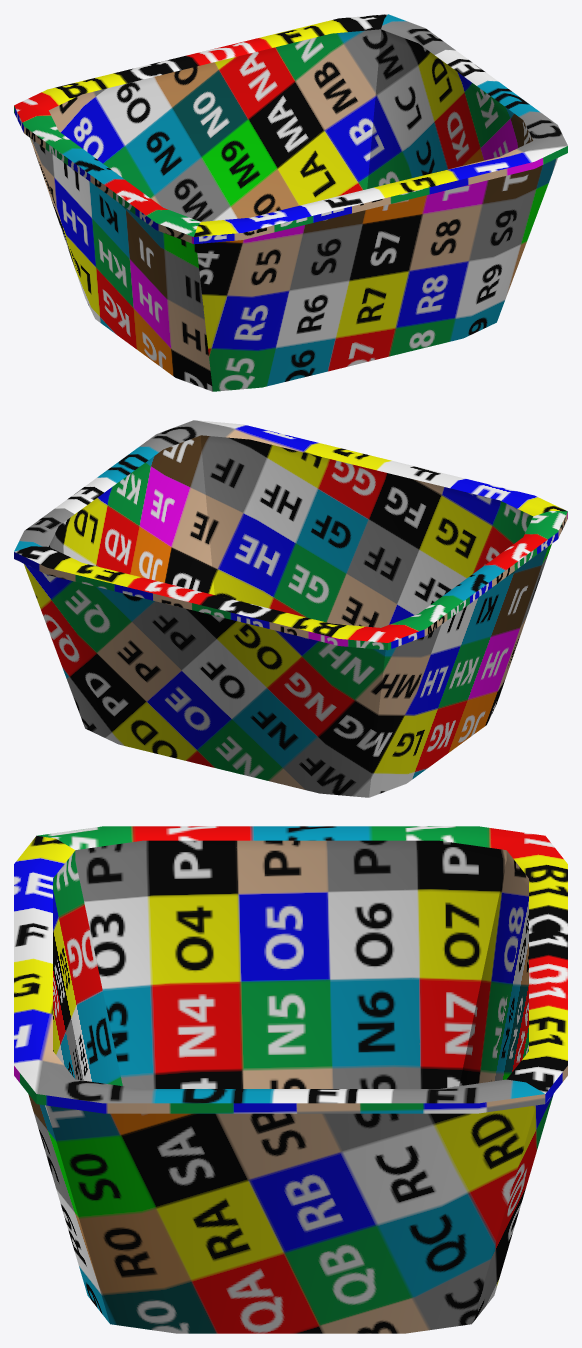
File: Basket2.FBX
3 views of the same model, one above another, from view 1: azimuth 30°, elevation 25°; view 2: azimuth 150°, elevation 25°; view 3: azimuth 270°, elevation 25° (orthographic). The views are drawn at different scales.
Parts seen in each view (by area): view 1: basket2; view 2: basket2; view 3: basket2.
Boxes of the visible parts, x1=… form: basket2: x1=14, y1=14, x2=567, y2=391; basket2: x1=14, y1=420, x2=567, y2=797; basket2: x1=14, y1=826, x2=567, y2=1333.
Size of the model in its own units: 1.32 by 0.5881 by 1.11.
Materials: 1 (1 with a texture image).
